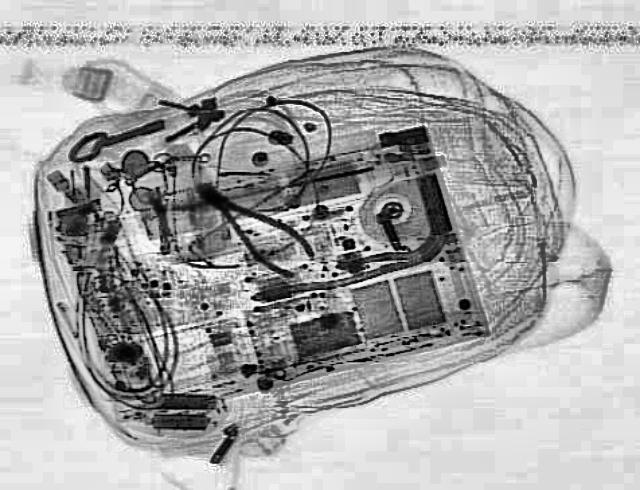Pliers: (174, 170, 326, 282)
